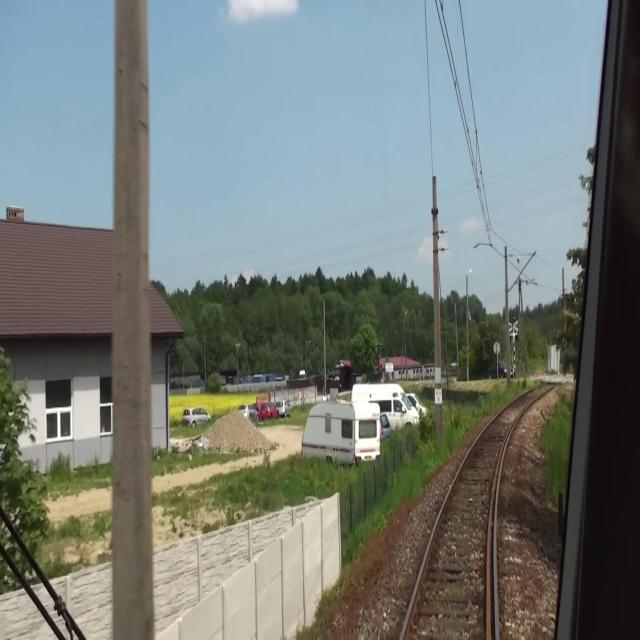rail-track: (404, 382, 552, 639)
